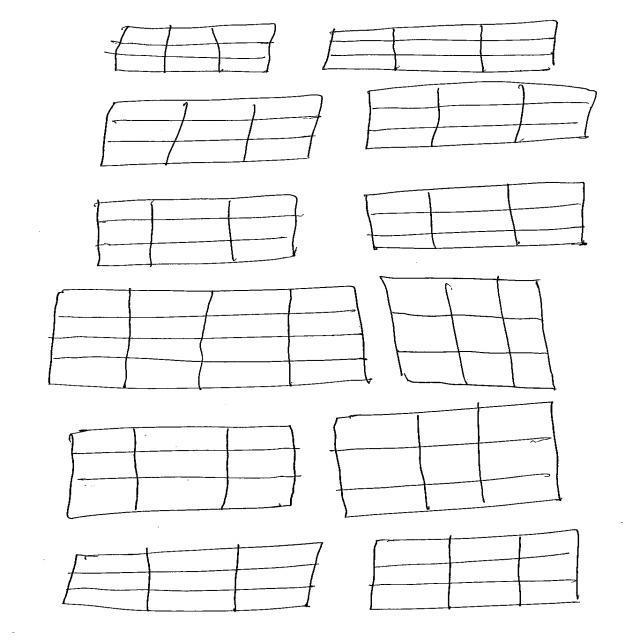table: (46, 285, 370, 391), (331, 402, 562, 520), (66, 425, 299, 520), (379, 277, 557, 392), (61, 542, 325, 615), (369, 528, 582, 612), (98, 94, 325, 169), (364, 80, 599, 152), (362, 181, 588, 252), (95, 193, 300, 269), (320, 19, 559, 74), (110, 22, 278, 76)
